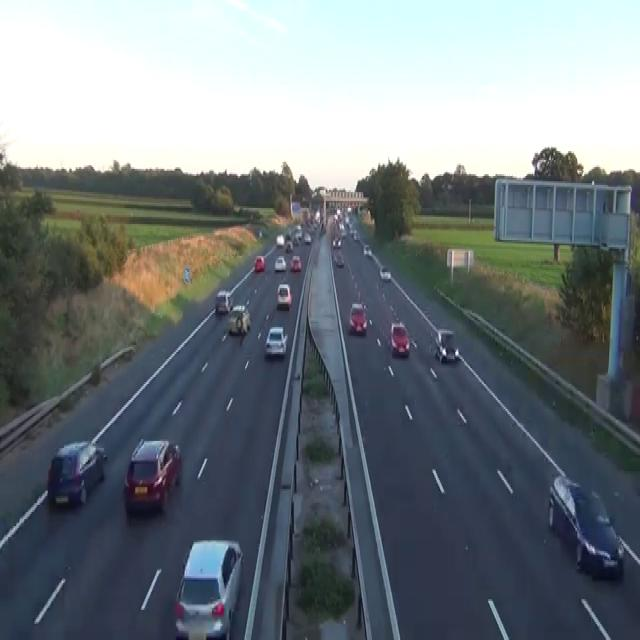Car: (547, 474, 624, 580), (173, 539, 243, 638), (123, 437, 181, 514), (47, 439, 107, 507), (434, 329, 459, 363), (227, 304, 251, 334), (390, 322, 409, 357), (265, 326, 287, 356), (348, 300, 367, 334), (276, 283, 292, 309), (215, 290, 232, 313), (632, 311, 639, 356), (288, 224, 302, 242), (290, 254, 301, 272), (379, 265, 391, 281), (274, 254, 286, 270), (254, 254, 264, 272), (333, 250, 344, 266), (295, 224, 302, 238), (363, 244, 371, 256), (276, 233, 284, 245), (285, 240, 293, 252), (332, 237, 341, 247), (339, 224, 346, 236), (314, 210, 320, 222), (304, 233, 311, 243), (293, 235, 300, 245), (348, 222, 354, 233), (285, 231, 292, 240), (353, 229, 358, 240), (320, 222, 325, 233), (258, 228, 262, 236)
